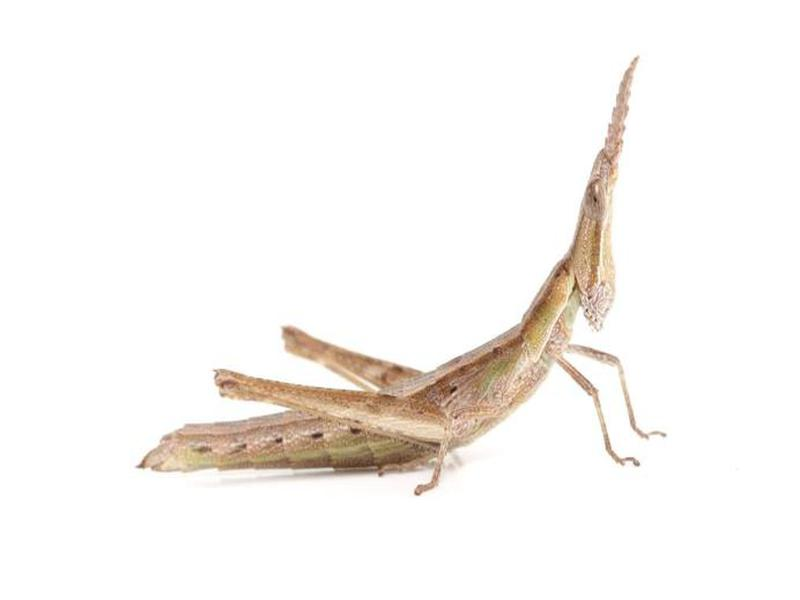Grasshopper: (97, 53, 716, 508)
